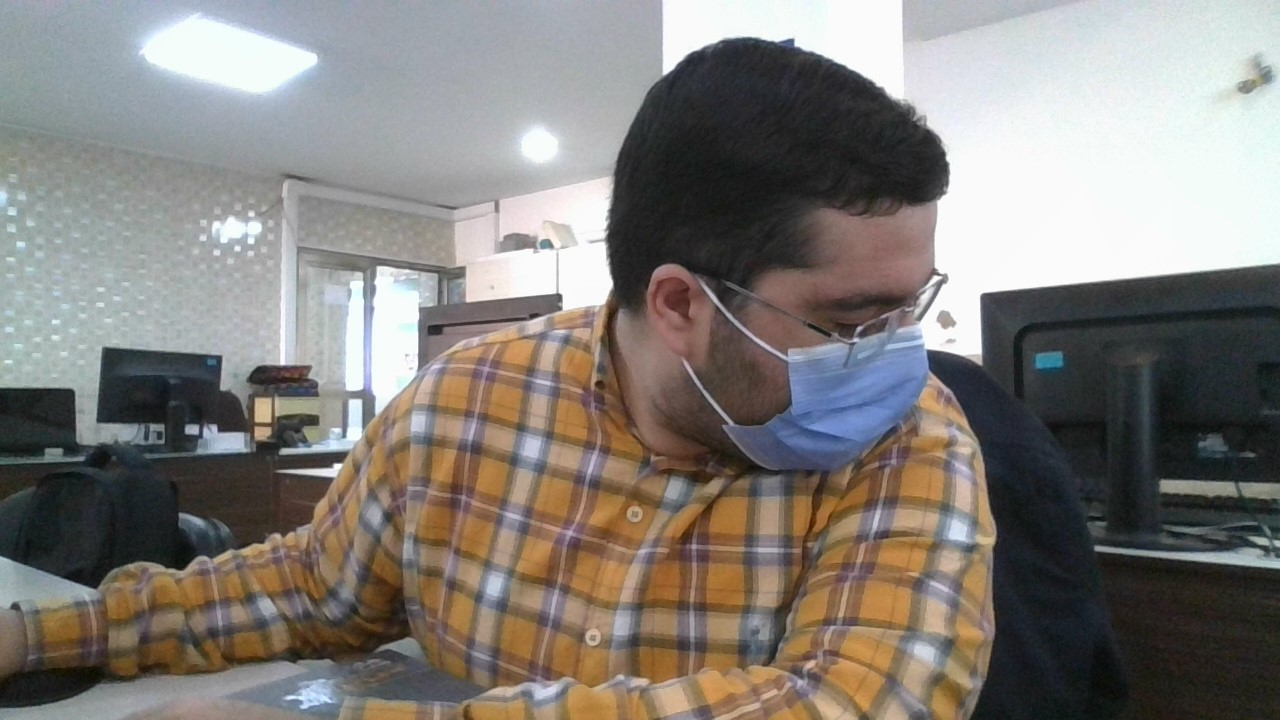Mask: (717, 320, 932, 474)
